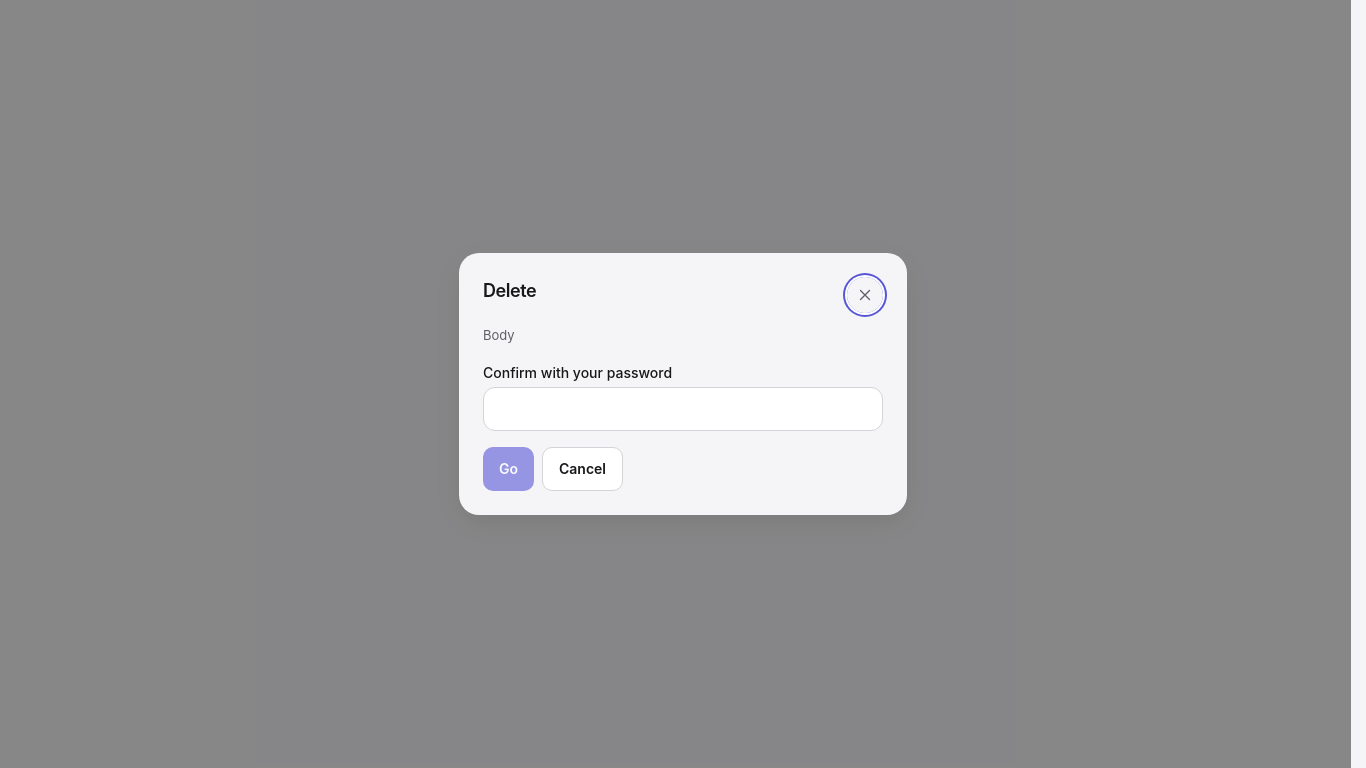
it: OIDCConfirmDialog › hands the password to run once and shows the failure inline
Type "pw" into the password field labelled "Confirm with your password".
click(683, 409); type("pw")  # box [483,387,883,431]
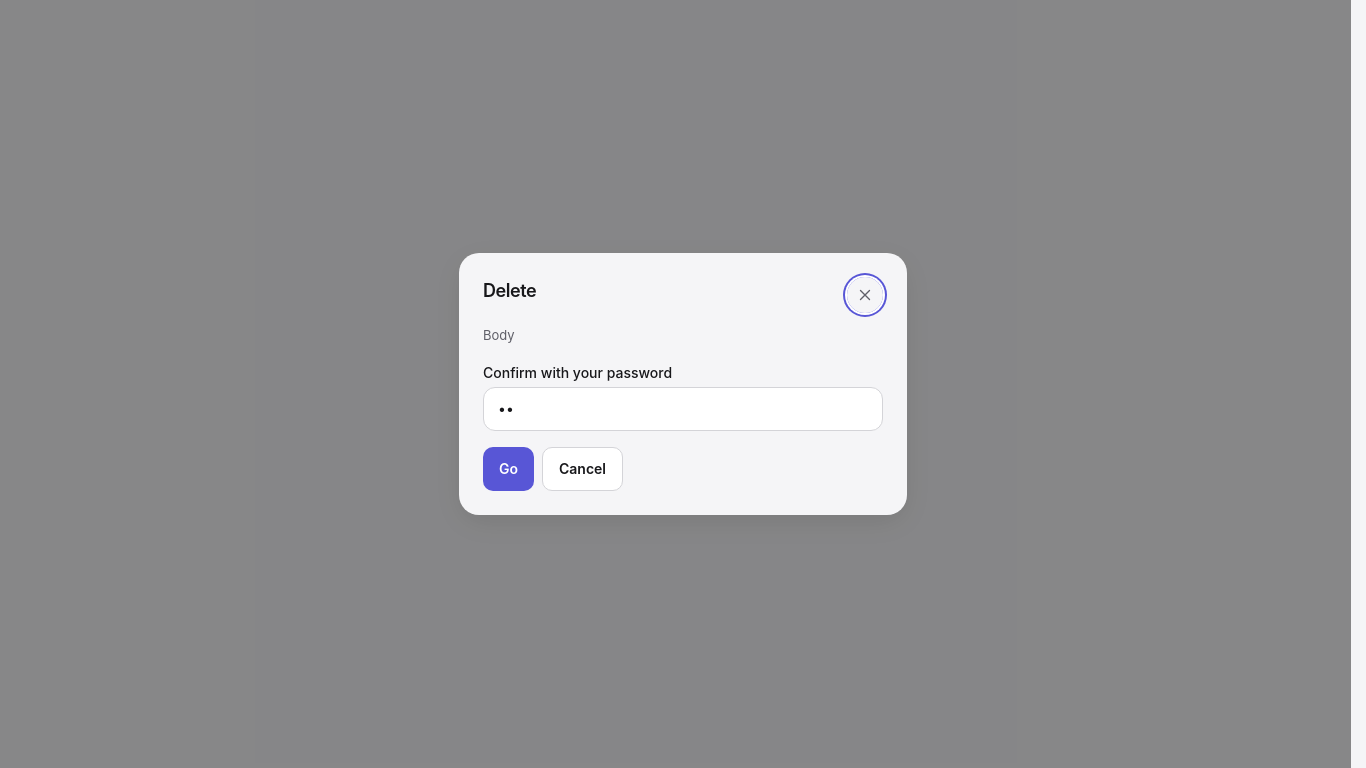
Click the button "Go".
click(508, 469)  # box [483,447,534,491]
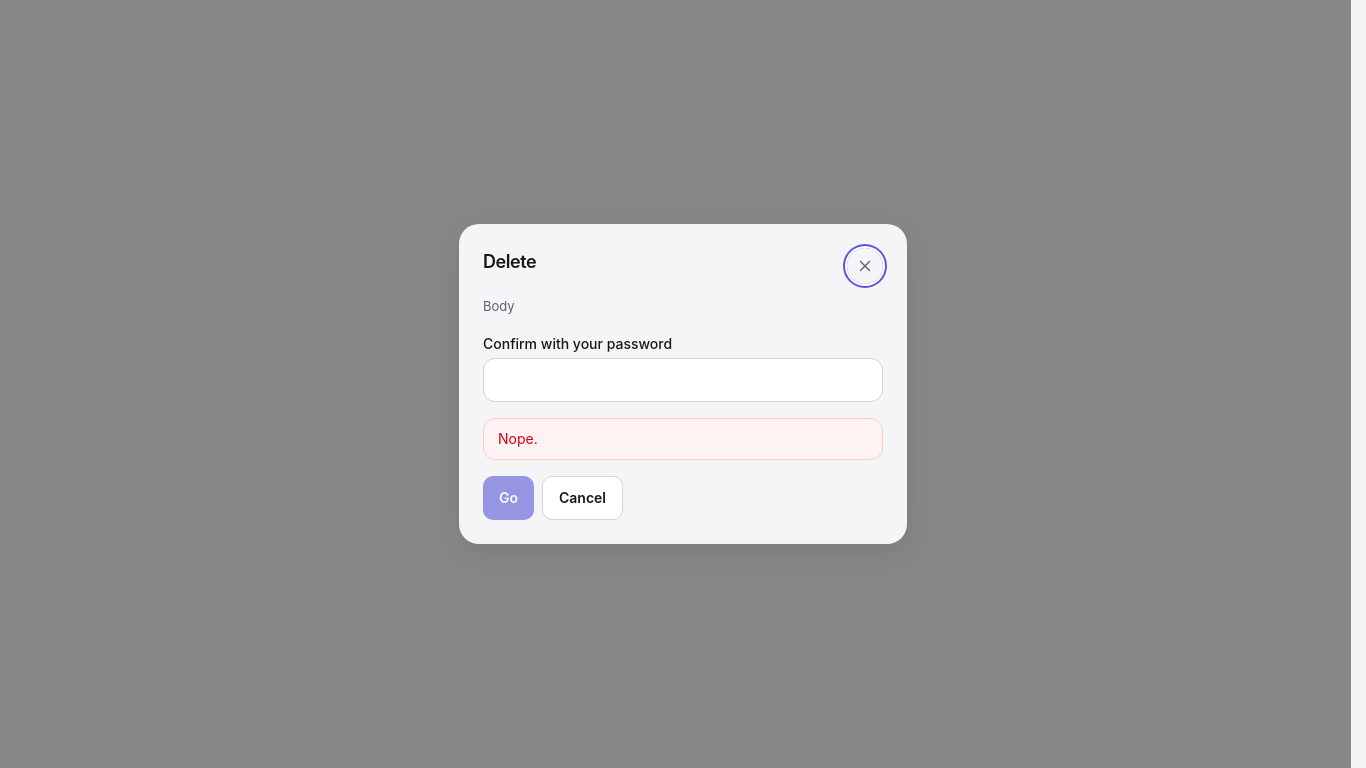
Check: the text "Nope." is shown, box [483,418,883,460]
Check: the password field labelled "Confirm with your password" is empty, box [483,358,883,402]
